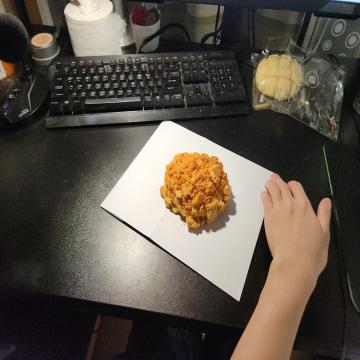soboru_bread: (161, 151, 233, 233)
